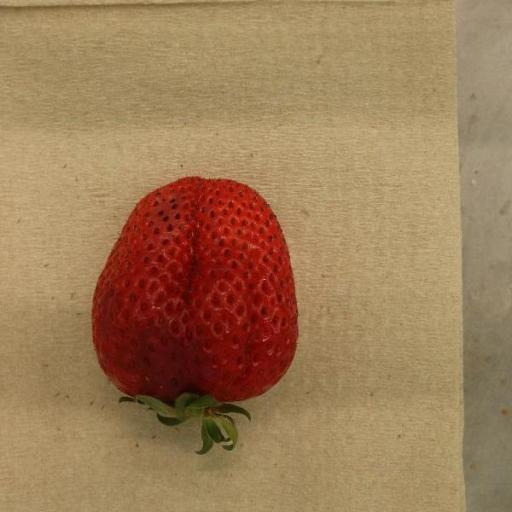Strawberry: (91, 177, 299, 456)
